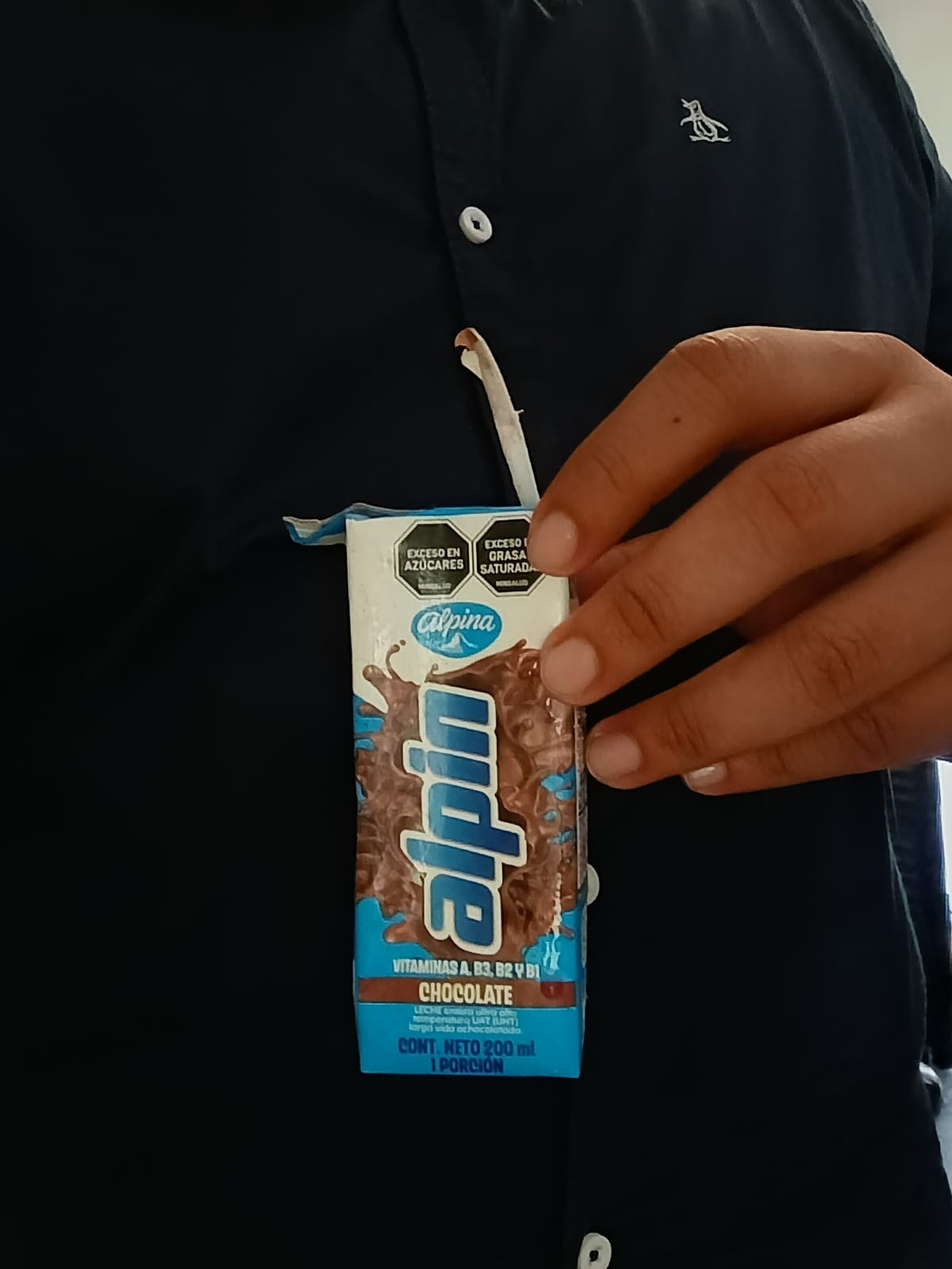Carton: (349, 510, 584, 1080)
